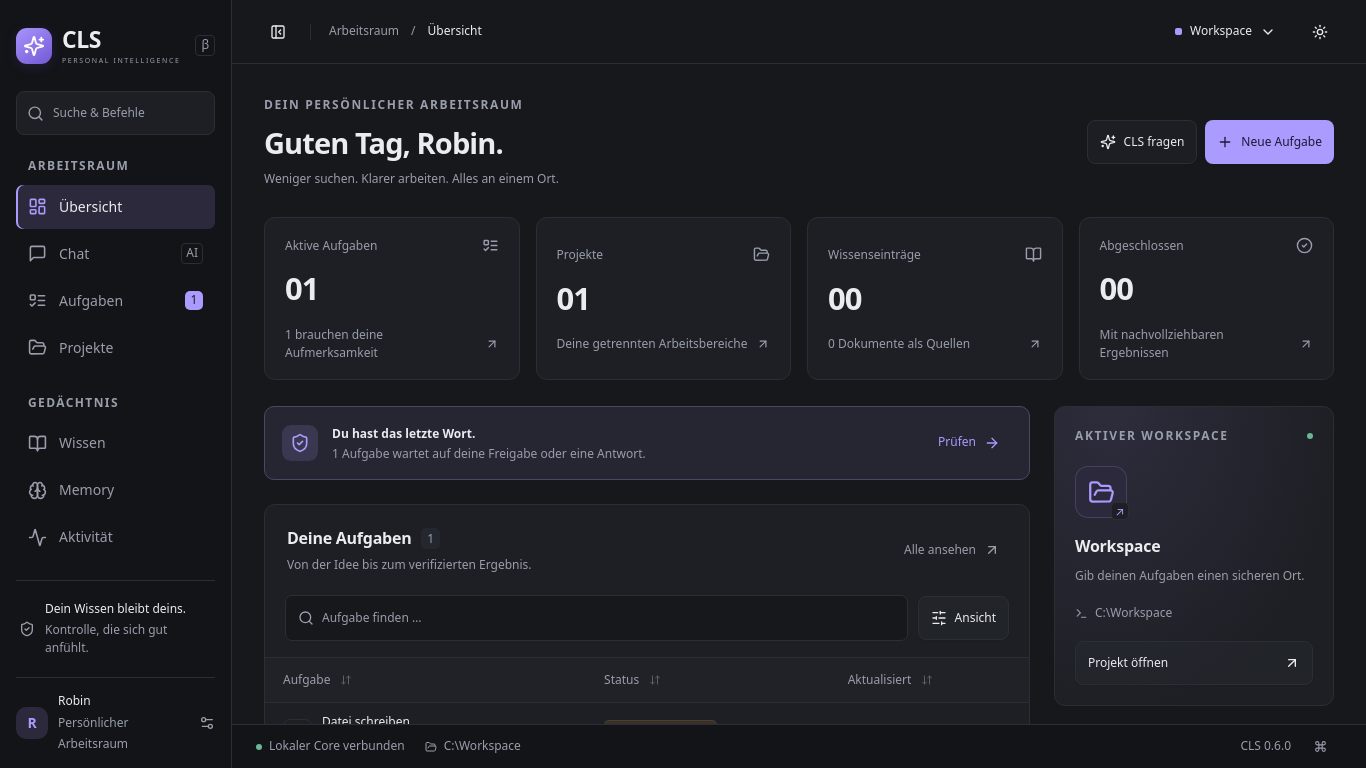
Test case: desktop interactions › opens Ctrl+K, moves with the keyboard and persists theme/sidebar preferences
Type keys "{Control>}k{/Control}"
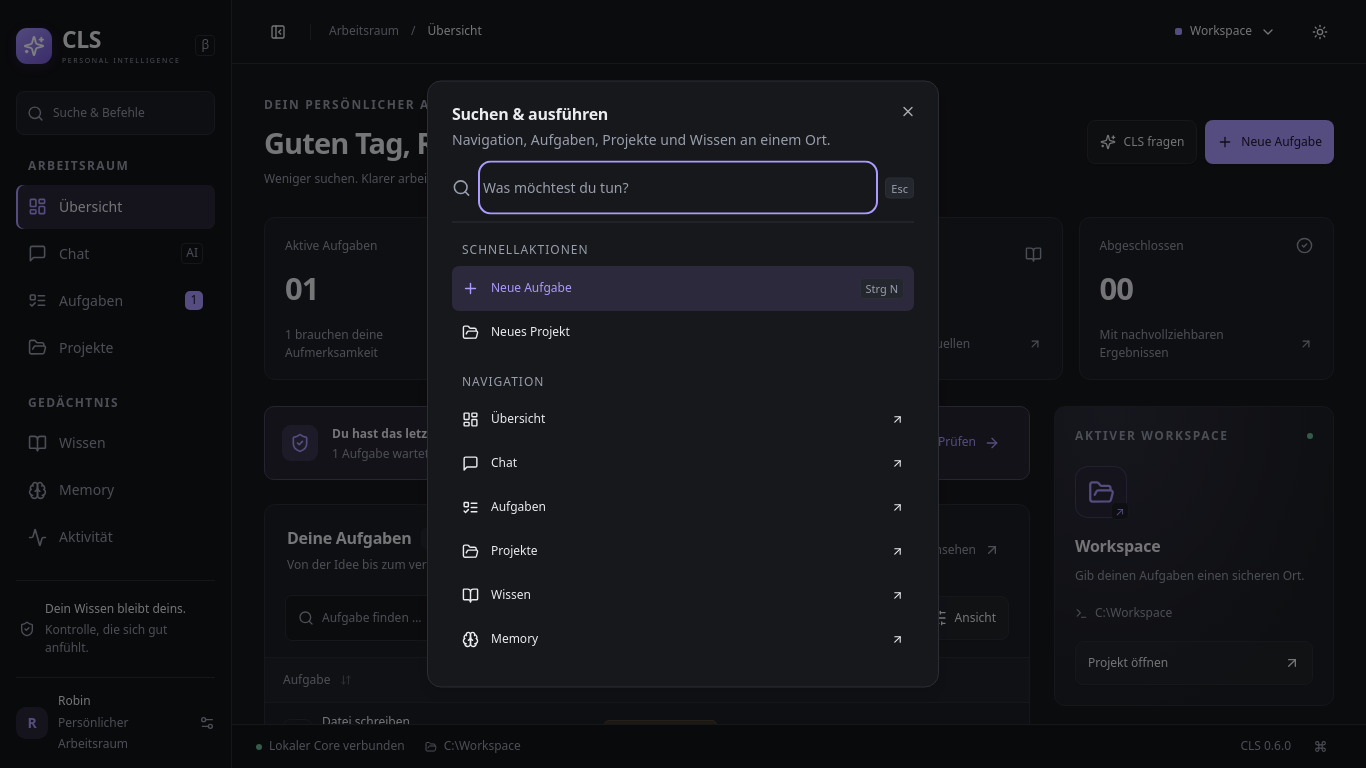
Now the dialog is shown, box left=427, top=80, right=939, bottom=688
Type "Einstellungen" into the dropdown at (678, 188), box left=483, top=166, right=873, bottom=210
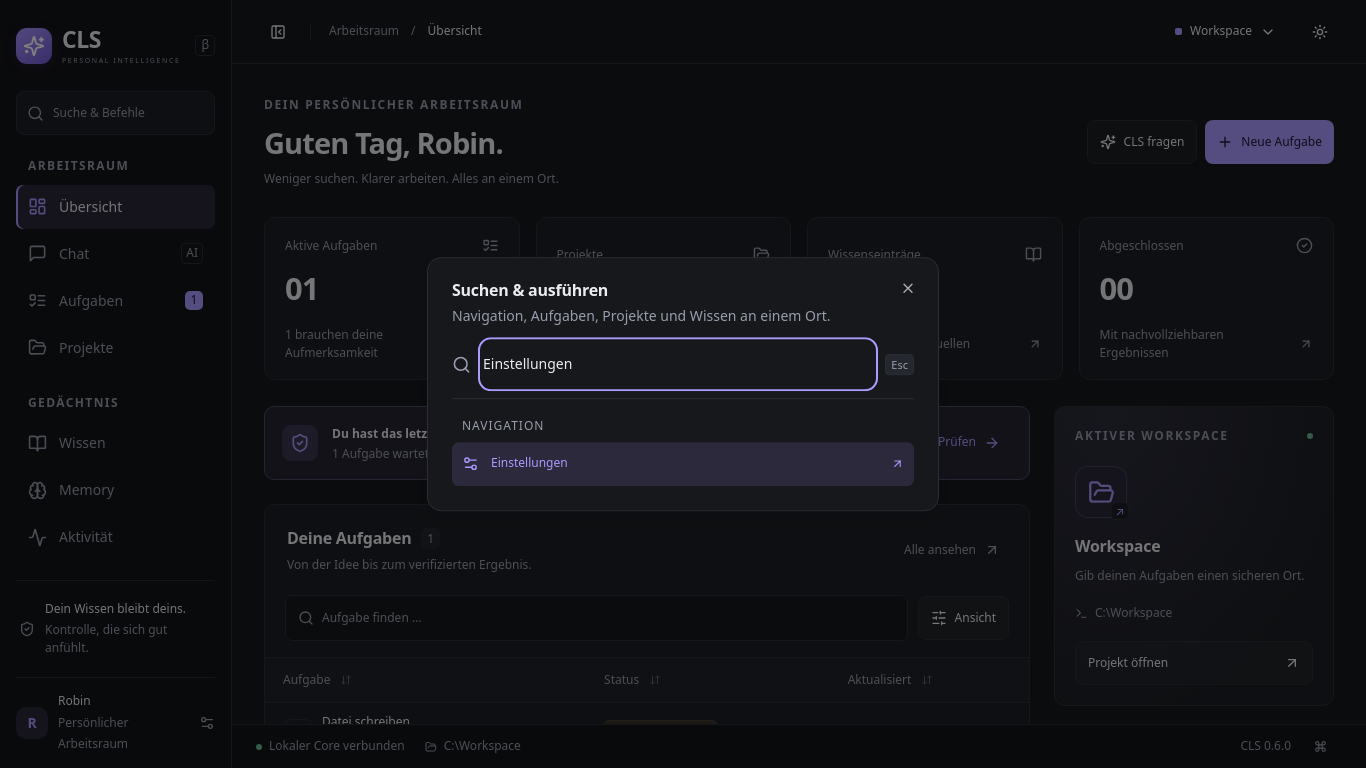
Press Enter
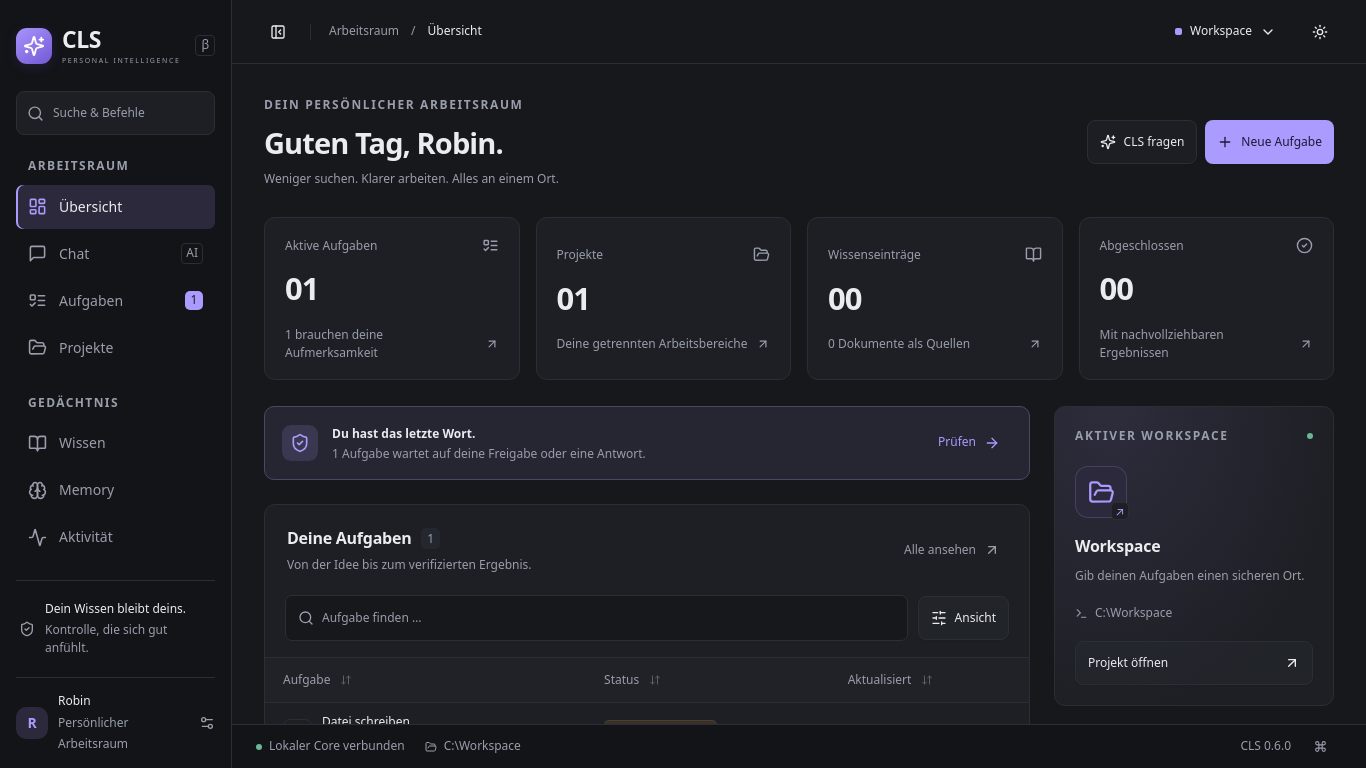
Click the button named "Farbschema wechseln" at (1320, 32), box left=1298, top=10, right=1342, bottom=54
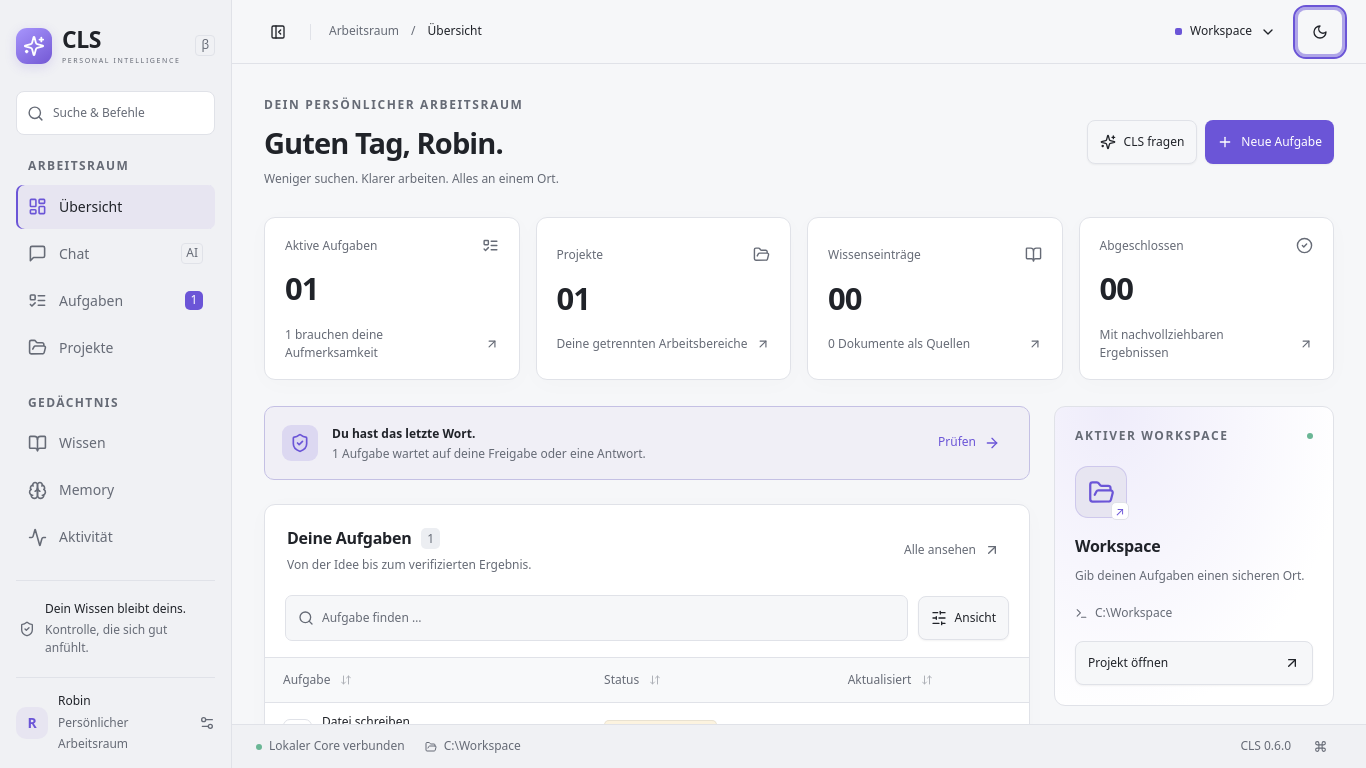
Type keys "{Control>}b{/Control}"
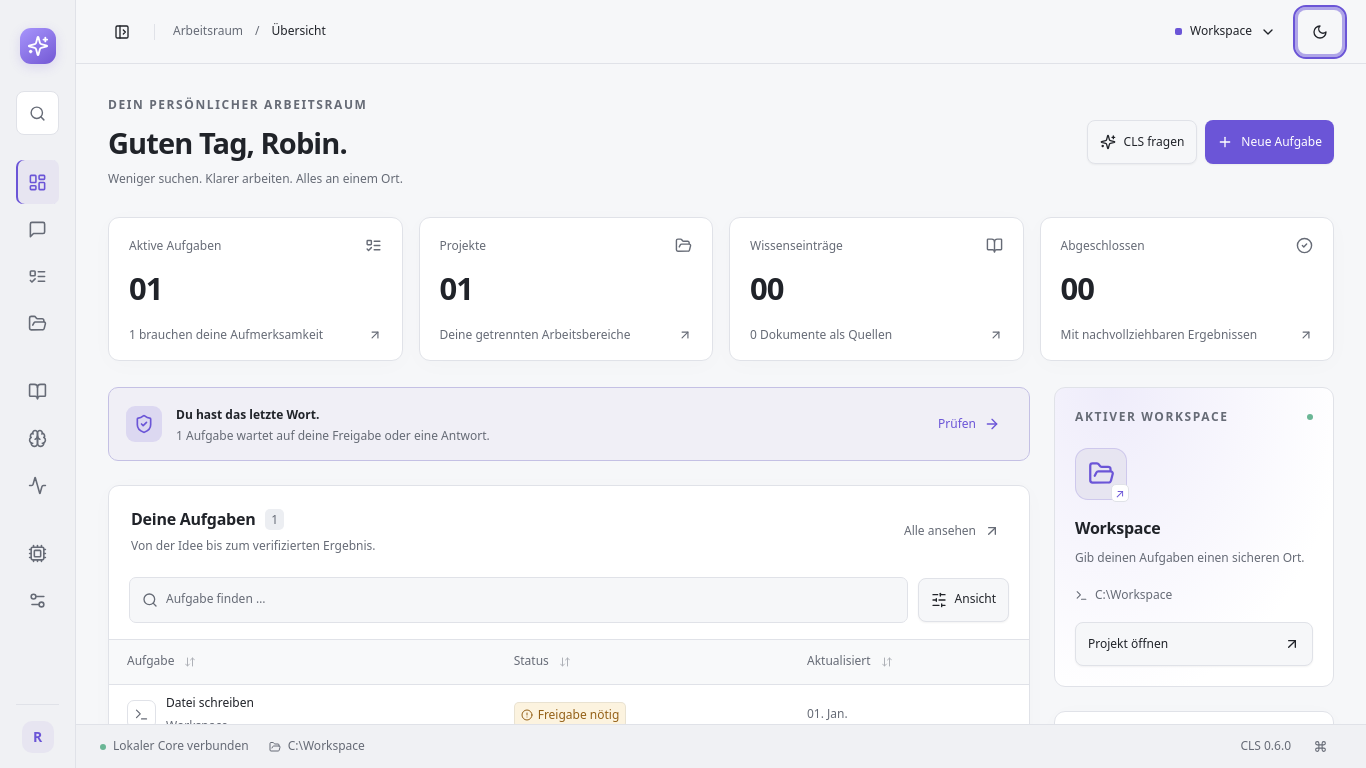
Now the button named "Sidebar ausklappen" is shown, box left=100, top=10, right=144, bottom=54
